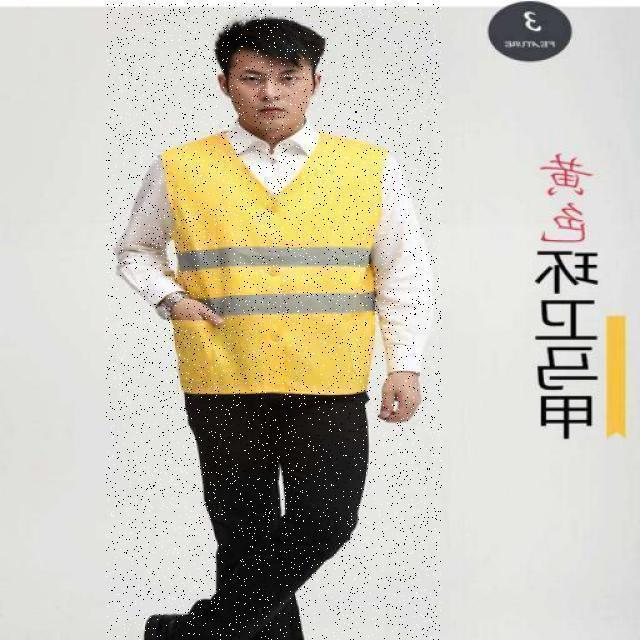vest: (162, 122, 386, 397)
